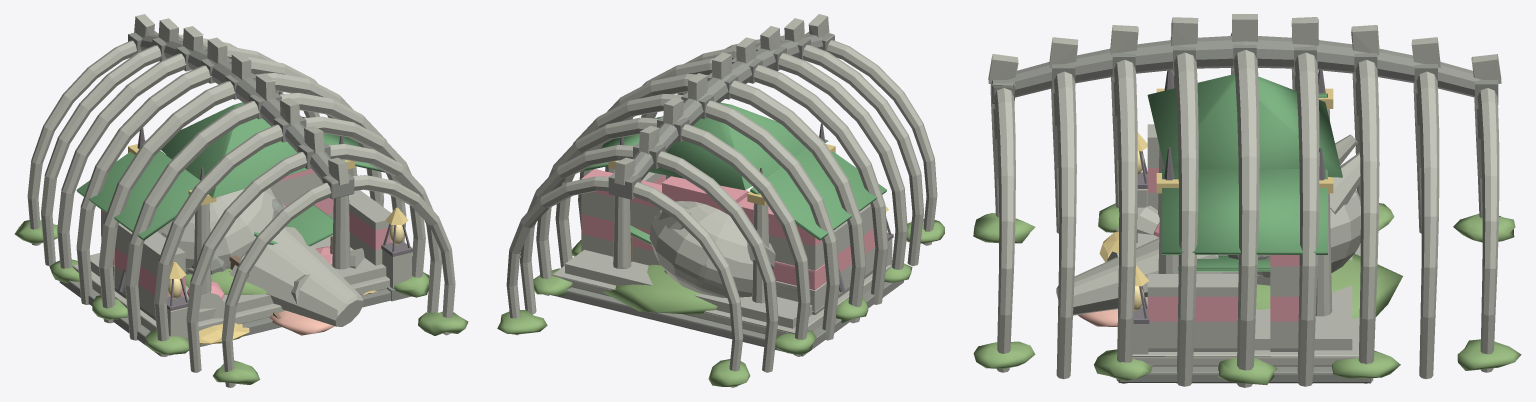
Rendered from AshenF12Kit.fbx.
3 views of the same model, side by side, from view 1: azimuth 30°, elevation 25°; view 2: azimuth 150°, elevation 25°; view 3: azimuth 270°, elevation 25° (orthographic). The views are drawn at different scales.
Parts seen in each view (by area): view 1: SandStriderRibs__TRIM, SandStriderSkull__TRIM, MasterTombPavilion__FOLIAGE, MasterTombPavilion__TRIM, SpiceVaultRuins__TRIM, SandStriderRibs__STONE, SandStriderRibs__MOSS, SpiceVaultRuins__ALT, MasterTombPavilion__STONE, DesertCaravanWagon__FOLIAGE, MasterTombPavilion__METAL, SpiceVaultRuins__CORAL (+4 smaller); view 2: SandStriderRibs__TRIM, MasterTombPavilion__FOLIAGE, MasterTombPavilion__TRIM, SandStriderSkull__TRIM, SpiceVaultRuins__TRIM, SandStriderRibs__STONE, SpiceVaultRuins__ALT, SandStriderRibs__MOSS, MasterTombPavilion__STONE, SandStriderSkull__MOSS; view 3: SandStriderRibs__TRIM, MasterTombPavilion__FOLIAGE, SandStriderRibs__STONE, SandStriderRibs__MOSS, MasterTombPavilion__TRIM, SpiceVaultRuins__TRIM, SandStriderSkull__TRIM, SpiceVaultRuins__ALT, MasterTombPavilion__STONE, SandStriderSkull__MOSS, MasterTombPavilion__METAL, MasterTombPavilion__GOLD (+2 smaller).
Part boxes in pixels (bbox=[...]): SandStriderRibs__TRIM: bbox=[27, 14, 455, 387]; SandStriderSkull__TRIM: bbox=[161, 188, 363, 326]; MasterTombPavilion__FOLIAGE: bbox=[76, 102, 386, 240]; MasterTombPavilion__TRIM: bbox=[72, 169, 411, 338]; SpiceVaultRuins__TRIM: bbox=[101, 173, 391, 318]; SandStriderRibs__STONE: bbox=[128, 31, 354, 199]; SandStriderRibs__MOSS: bbox=[14, 220, 468, 384]; SpiceVaultRuins__ALT: bbox=[101, 168, 391, 299]; MasterTombPavilion__STONE: bbox=[59, 265, 411, 356]; DesertCaravanWagon__FOLIAGE: bbox=[254, 205, 333, 246]; MasterTombPavilion__METAL: bbox=[118, 91, 412, 310]; SpiceVaultRuins__CORAL: bbox=[269, 310, 334, 335]; SandStriderRibs__TRIM: bbox=[506, 14, 937, 387]; MasterTombPavilion__FOLIAGE: bbox=[579, 102, 886, 240]; MasterTombPavilion__TRIM: bbox=[552, 169, 892, 336]; SandStriderSkull__TRIM: bbox=[649, 191, 775, 297]; SpiceVaultRuins__TRIM: bbox=[581, 172, 875, 311]; SandStriderRibs__STONE: bbox=[608, 31, 834, 199]; SpiceVaultRuins__ALT: bbox=[581, 169, 875, 290]; SandStriderRibs__MOSS: bbox=[497, 219, 944, 386]; MasterTombPavilion__STONE: bbox=[550, 280, 903, 356]; SandStriderSkull__MOSS: bbox=[603, 264, 717, 314]; SandStriderRibs__TRIM: bbox=[988, 14, 1501, 387]; MasterTombPavilion__FOLIAGE: bbox=[1147, 74, 1342, 254]; SandStriderRibs__STONE: bbox=[991, 36, 1498, 105]; SandStriderRibs__MOSS: bbox=[973, 203, 1521, 385]; MasterTombPavilion__TRIM: bbox=[1132, 109, 1360, 366]; SpiceVaultRuins__TRIM: bbox=[1107, 124, 1299, 348]; SandStriderSkull__TRIM: bbox=[1056, 134, 1360, 315]; SpiceVaultRuins__ALT: bbox=[1147, 168, 1299, 321]; MasterTombPavilion__STONE: bbox=[1116, 227, 1370, 383]; SandStriderSkull__MOSS: bbox=[1256, 253, 1402, 318]; MasterTombPavilion__METAL: bbox=[1133, 70, 1325, 323]; MasterTombPavilion__GOLD: bbox=[1135, 88, 1333, 286].
Bounding box in the file's own units: 39.71 × 30.62 × 52.17.
